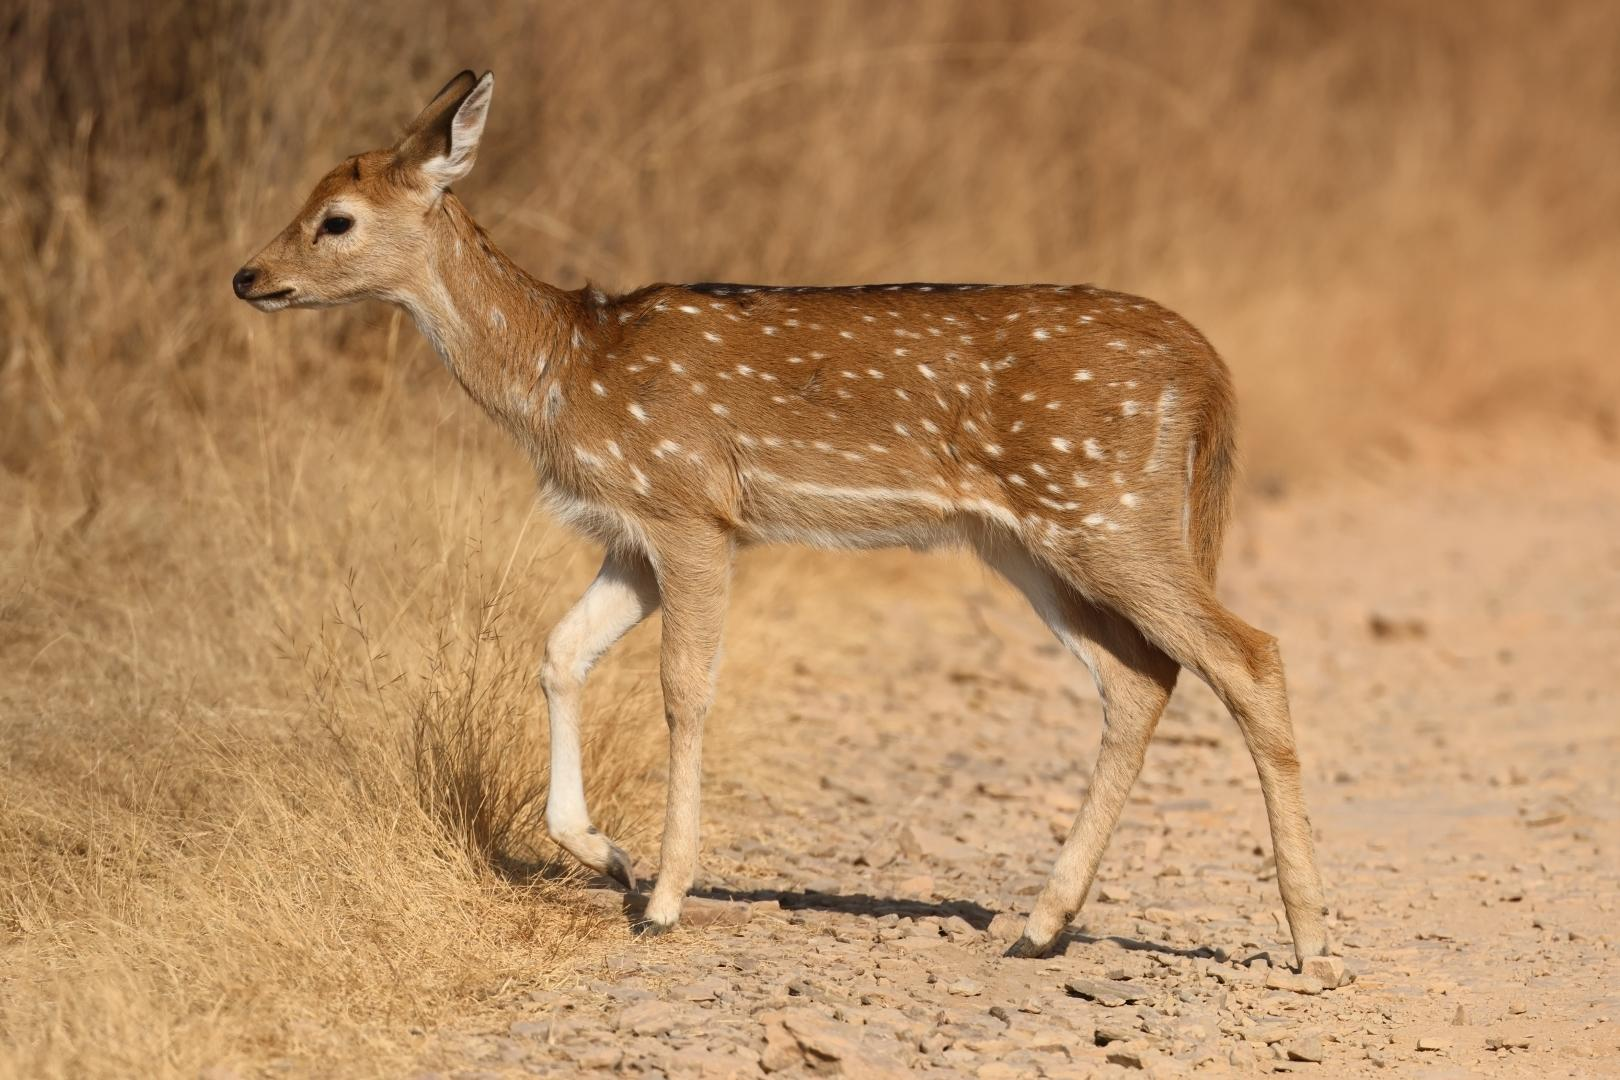Deer: (231, 71, 1327, 959)
